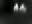person: (21, 5, 28, 17), (15, 3, 19, 14)
